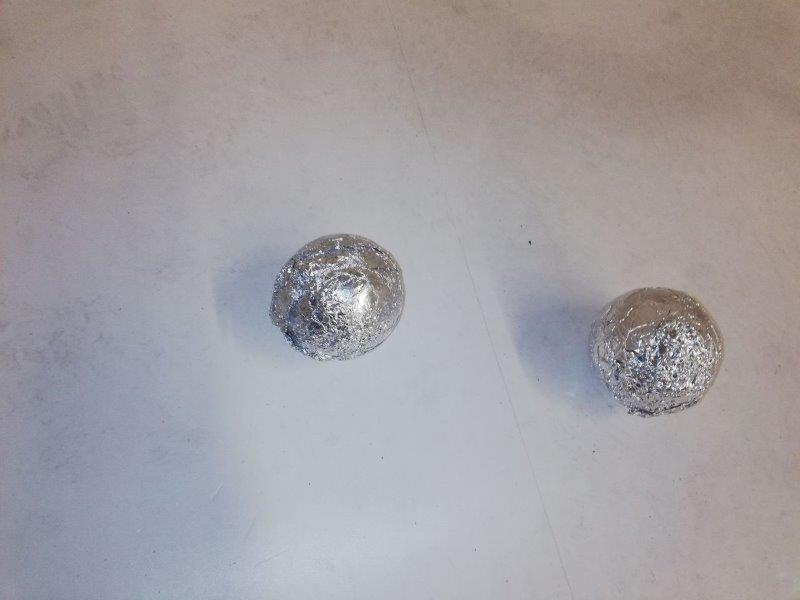bianca: (585, 285, 724, 419), (270, 232, 401, 359)
